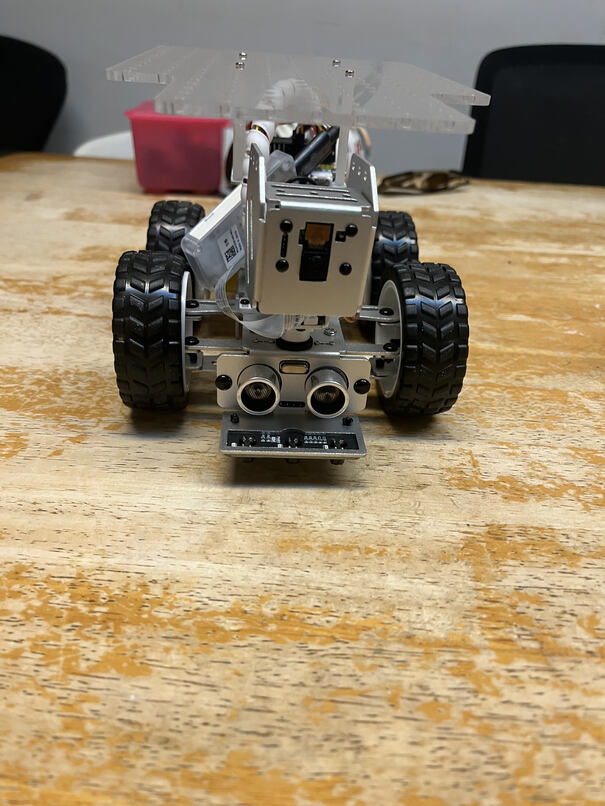vehicle: (110, 42, 498, 477)
